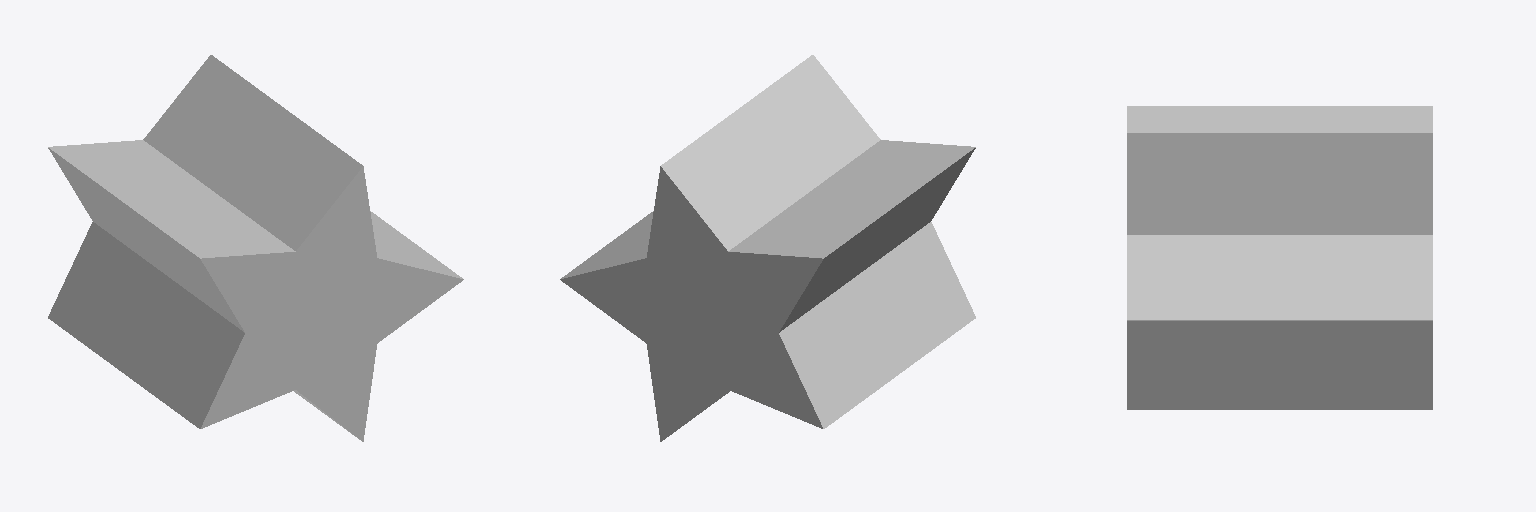
Rendered from star5.obj.
3 renders of one model, left to right at view 1: azimuth 30°, elevation 25°; view 2: azimuth 150°, elevation 25°; view 3: azimuth 270°, elevation 25°, orthographic.
Visible parts, largest first — view 1: obj_0; view 2: obj_0; view 3: obj_0.
Part boxes in pixels (x1,y1,x2,y2): obj_0: (48,55,463,441); obj_0: (560,55,975,441); obj_0: (1127,106,1432,409).
Bounding box in the file's own units: 5 × 5 × 5.